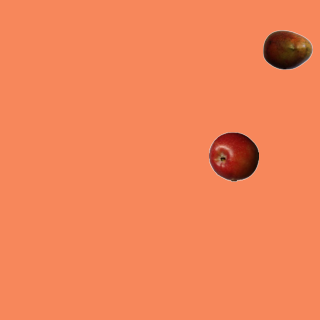Apple Braeburn: (208, 131, 258, 181)
Mango Red: (262, 24, 312, 74)
